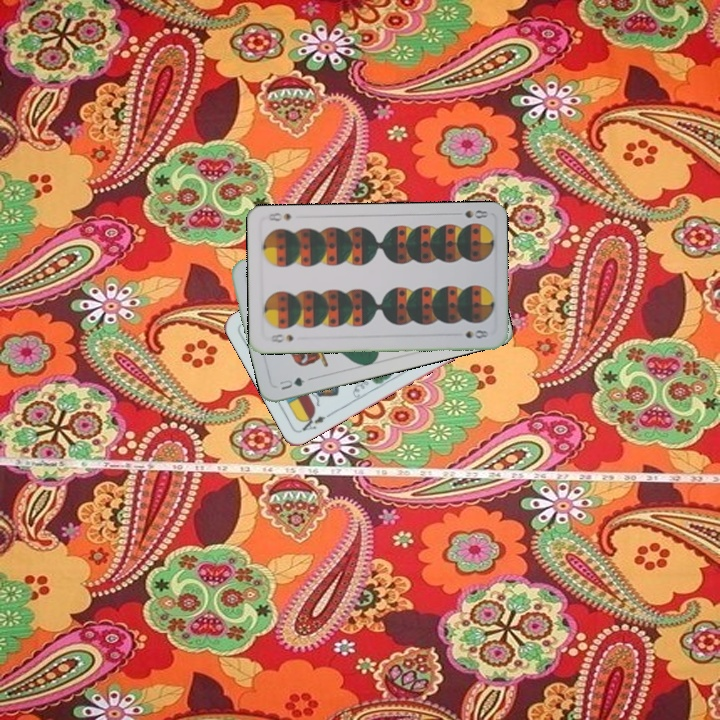EA: (297, 408, 334, 433)
GU: (275, 373, 308, 393)
S8: (450, 206, 491, 221), (267, 330, 296, 345)
